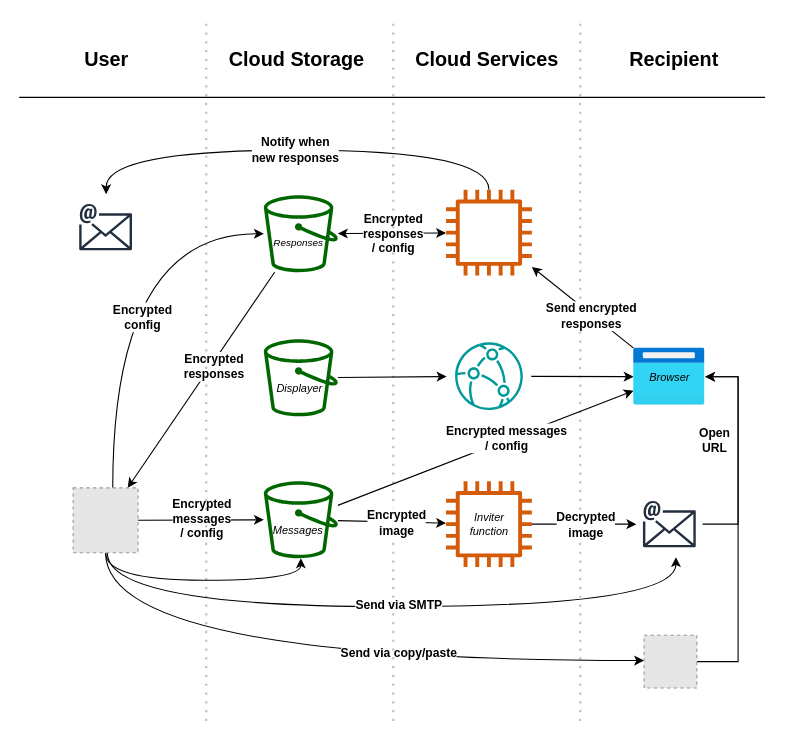
The diagram is 785 pixels wide and 741 high, and some of its shapes have lost their labels. Grey dashed boxes stand in for pictures. Here are the shapes that lost their labels. From the top down, the centre of each, then its label:
At (488,232): "Responder function".
At (488,376): "CDN".
